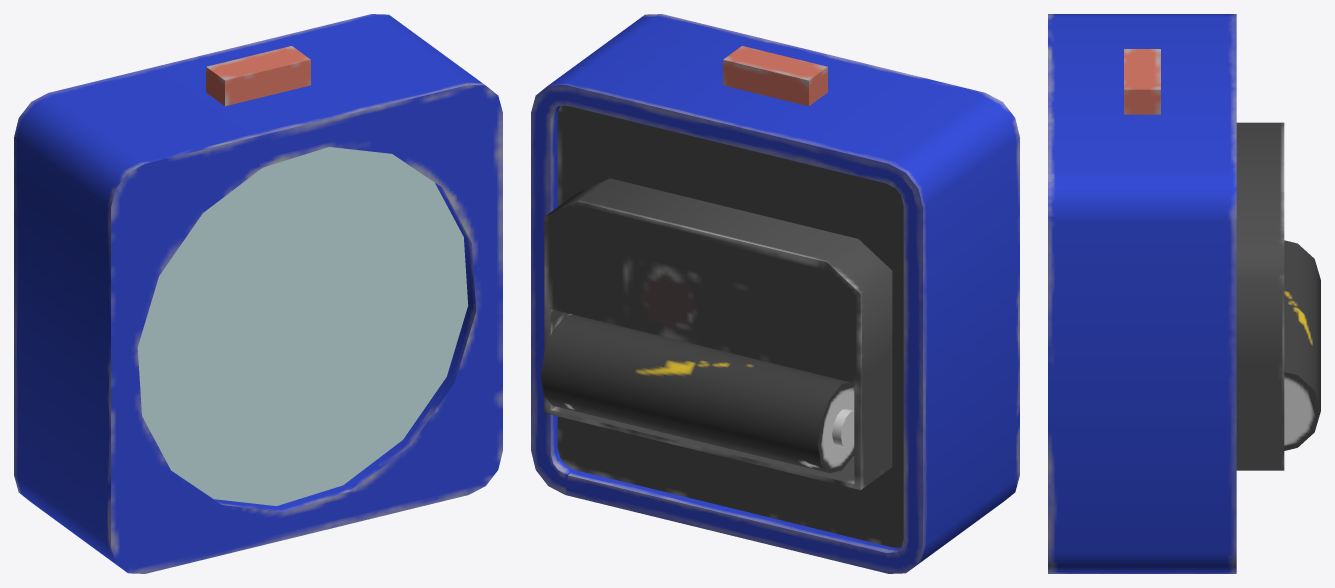
File: Clock.fbx
3 renders of one model, left to right at view 1: azimuth 30°, elevation 25°; view 2: azimuth 150°, elevation 25°; view 3: azimuth 270°, elevation 25°, orthographic. The views are drawn at different scales.
Visible parts, largest first — view 1: Clock; view 2: Clock; view 3: Clock.
Part boxes in pixels (x1,y1,x2,y2): Clock: [14, 14, 502, 573]; Clock: [531, 14, 1019, 573]; Clock: [1048, 14, 1320, 573].
Size of the model in its own units: 0.0685 by 0.0728 by 0.0424.
